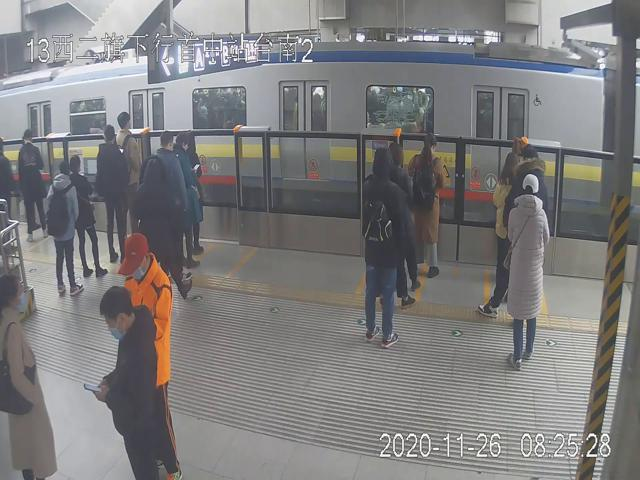person: (119, 231, 183, 480), (89, 287, 159, 480), (363, 145, 406, 347), (507, 173, 548, 371), (407, 136, 447, 277), (46, 162, 82, 297), (70, 151, 107, 279), (97, 126, 130, 267)
